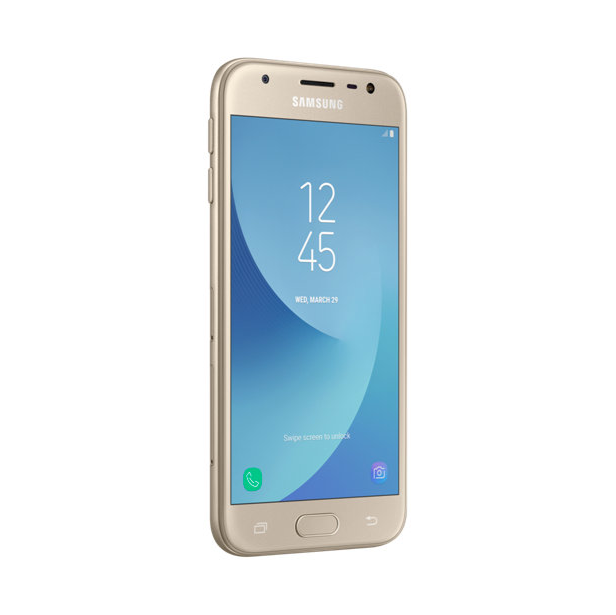Handphone: (202, 50, 419, 560)
